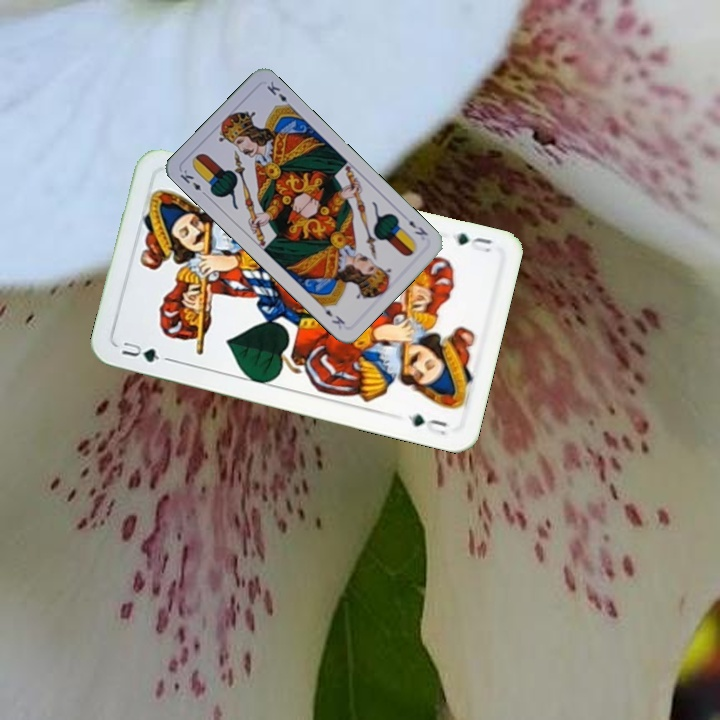EK: (176, 165, 210, 199), (405, 216, 431, 238)
GU: (118, 337, 162, 365), (448, 229, 495, 255)
